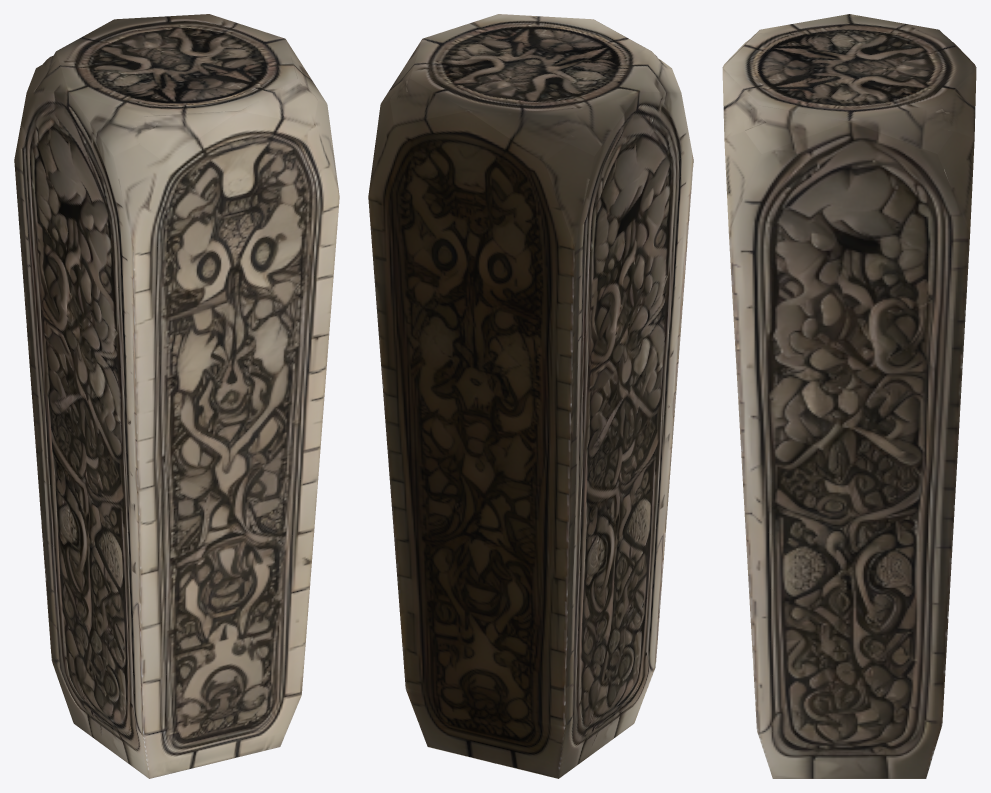
File: Lahid.fbx
3 renders of one model, left to right at view 1: azimuth 30°, elevation 25°; view 2: azimuth 150°, elevation 25°; view 3: azimuth 270°, elevation 25°, orthographic.
Parts seen in each view (by area): view 1: Lahid; view 2: Lahid; view 3: Lahid.
Boxes of the visible parts, x1,y1,x2,y2 form: Lahid: [14, 14, 339, 778]; Lahid: [368, 14, 693, 778]; Lahid: [722, 14, 976, 778].
Bounding box in the file's own units: 200 × 600 × 200.
